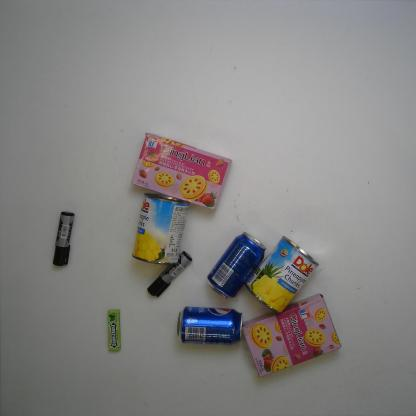Canned Food: (244, 234, 320, 315), (130, 192, 191, 266)
Dessert: (240, 292, 342, 378), (130, 131, 233, 213)
Drink: (206, 231, 267, 300), (175, 305, 243, 346)
Gum: (107, 308, 124, 352)
Stationery: (146, 250, 193, 298), (52, 210, 76, 268)
